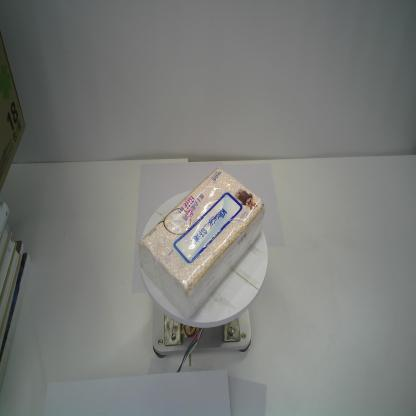Tissue: (136, 167, 266, 321)
